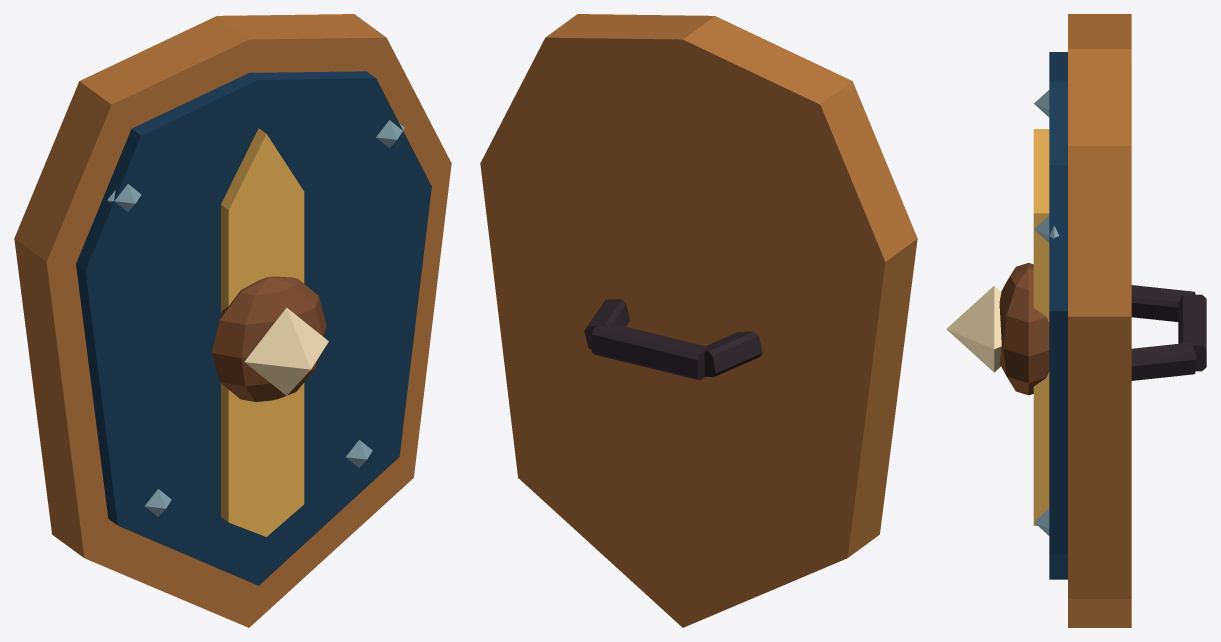
Rendered from prop-fighter-shield.glb.
3 views of the same model, side by side, from view 1: azimuth 30°, elevation 25°; view 2: azimuth 150°, elevation 25°; view 3: azimuth 270°, elevation 25° (orthographic).
Visible parts, largest first — view 1: prop-fighter-shield.001; view 2: prop-fighter-shield.001; view 3: prop-fighter-shield.001.
Boxes of the visible parts, bbox=[...] form: prop-fighter-shield.001: bbox=[14, 14, 451, 627]; prop-fighter-shield.001: bbox=[480, 14, 917, 627]; prop-fighter-shield.001: bbox=[946, 14, 1206, 627].
Size of the model in its own units: 0.536 by 0.744 by 0.3035.
Materials: 1 (1 with a texture image).
